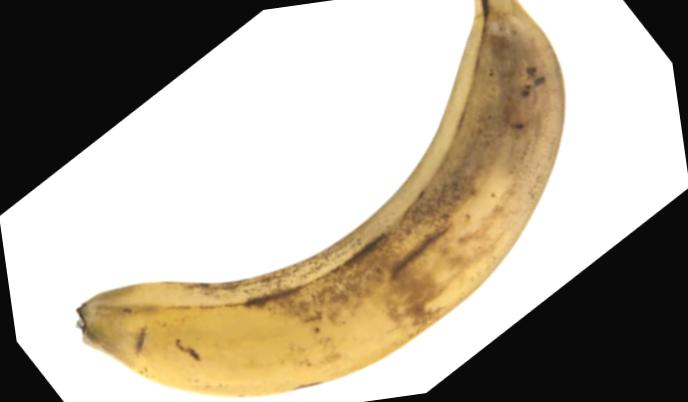Banana Overripe: (0, 0, 614, 402)
